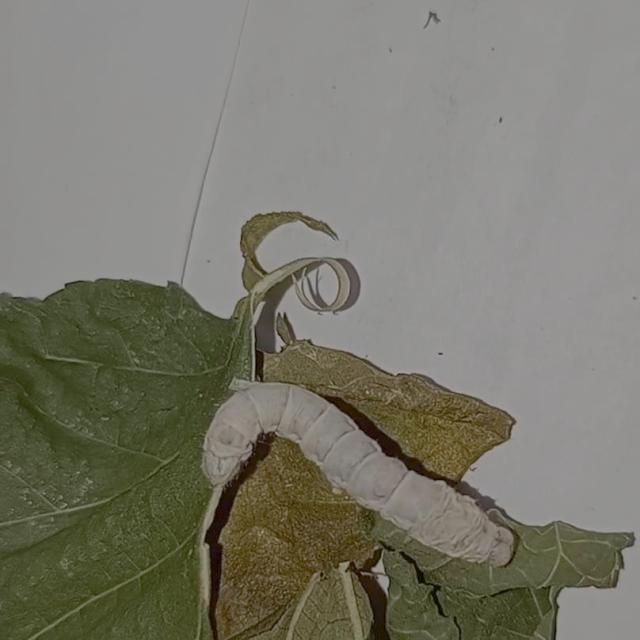Healthy: (192, 364, 526, 580)
